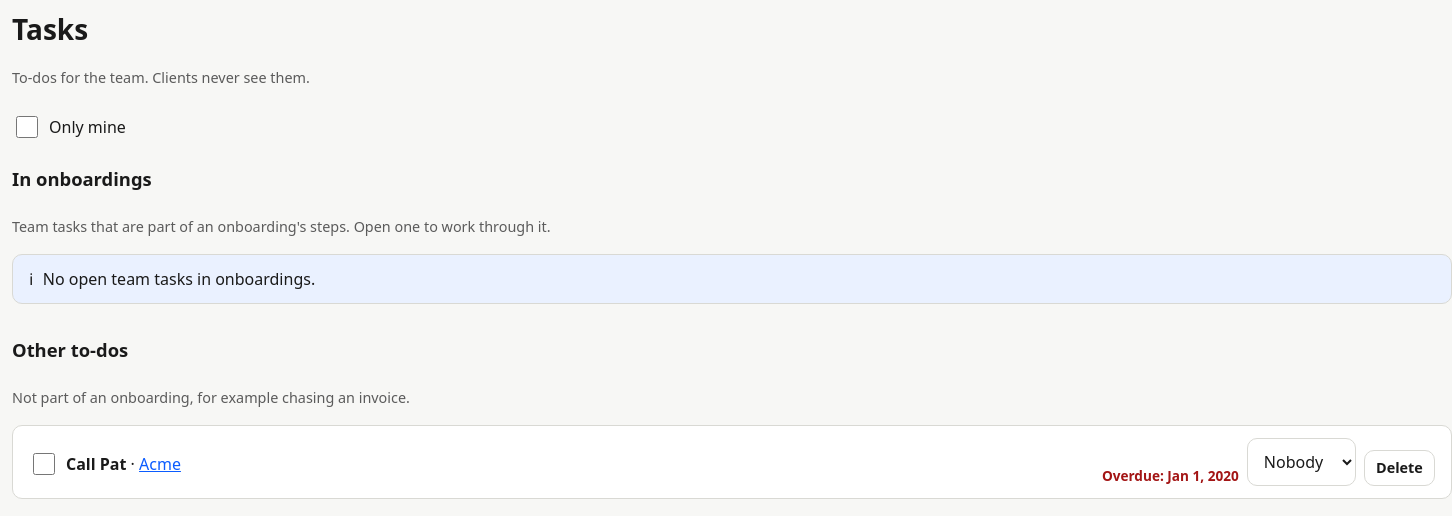
Test: the tasks page › lists open tasks with their client, and "only mine" asks for just my own
Expected: the text "Call Pat" is shown, [66, 453, 126, 475]
Expected: the text "Overdue: Jan 1, 2020" is shown, [1102, 466, 1239, 486]
Click the checkbox labelled "Only mine" at (27, 127), box [16, 116, 38, 138]
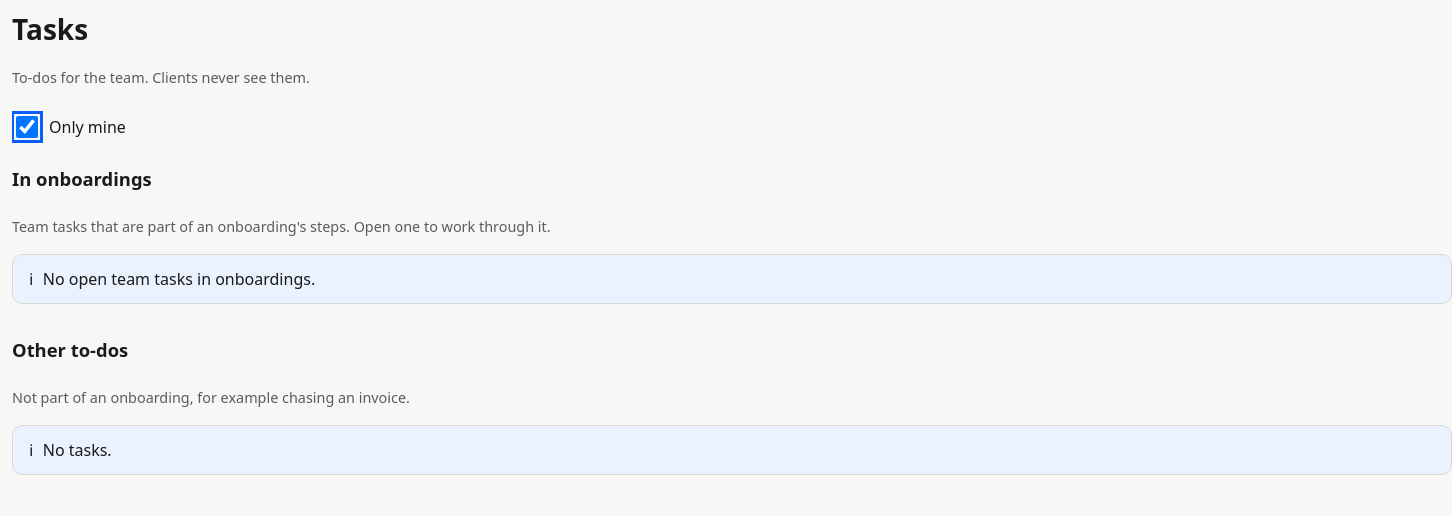
Result: the text "No tasks." is shown at [43, 438, 112, 462]
